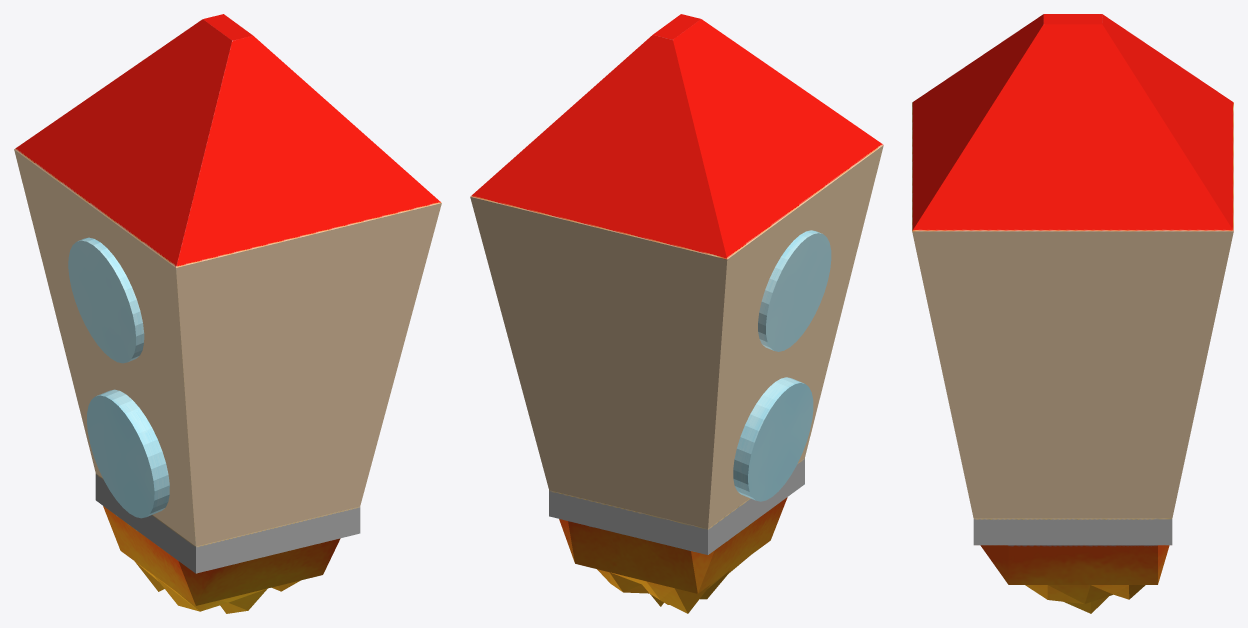
File: rocket.obj
3 views of the same model, side by side, from view 1: azimuth 30°, elevation 25°; view 2: azimuth 150°, elevation 25°; view 3: azimuth 270°, elevation 25° (orthographic). The views are drawn at different scales.
Visible parts, largest first — view 1: 円柱.001; view 2: 円柱.001; view 3: 円柱.001.
Part boxes in pixels (box(x1,y1,x2,y2)): 円柱.001: box(14, 14, 441, 613); 円柱.001: box(470, 14, 883, 613); 円柱.001: box(912, 14, 1233, 613).
Size of the model in its own units: 1.25 by 2.65 by 1.31.
Materials: 1 (1 with a texture image).
